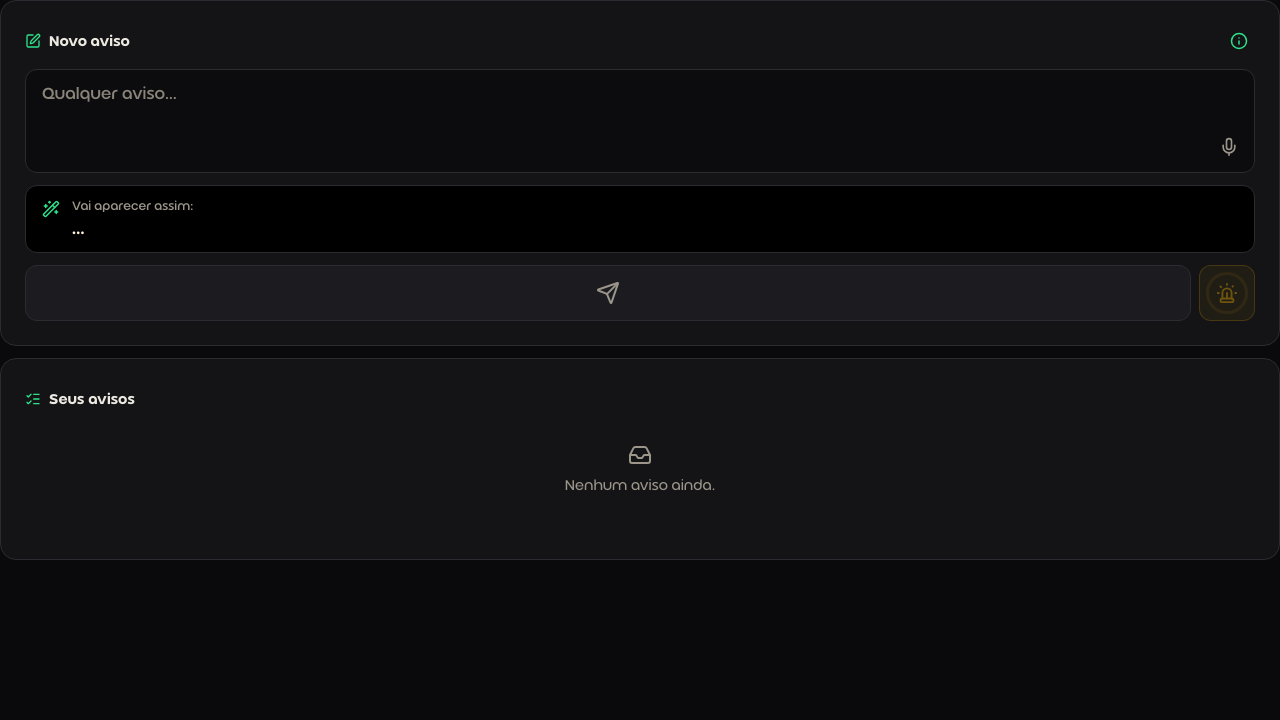
it: SendTab: campo e prévia › admin com repetido é só avisado
Click the text box labelled "Novo aviso" at (640, 121), box [25, 69, 1255, 173]
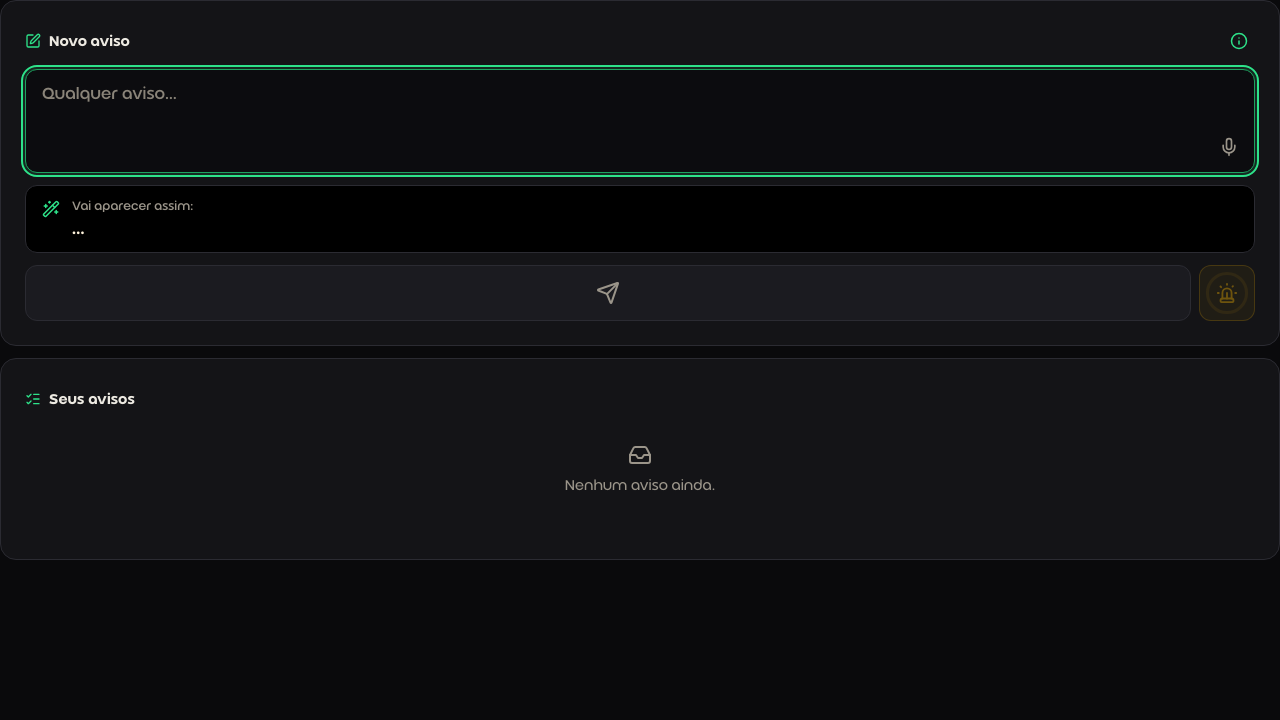
Type keys "gol branco ffo4745"
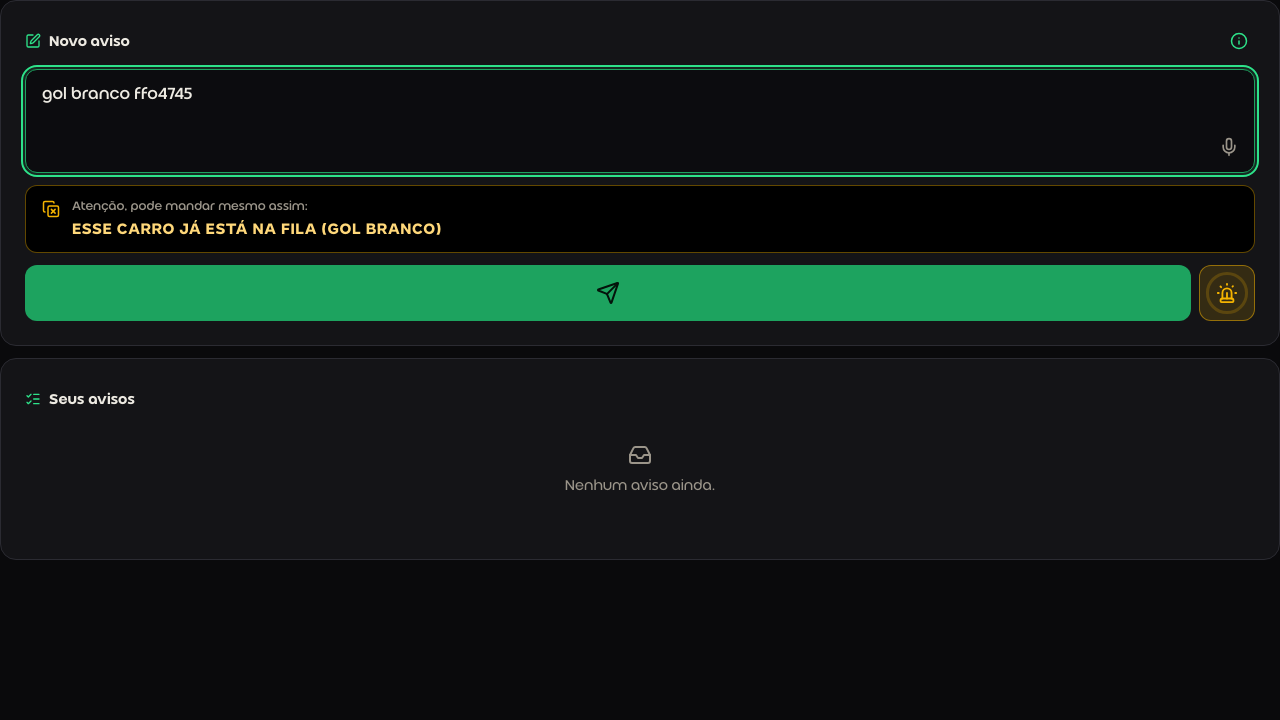
expect the text "Atenção, pode mandar mesmo assim:" is shown: met, box [72, 198, 308, 213]
expect the text "ESSE CARRO JÁ ESTÁ NA FILA (GOL BRANCO)" is shown: met, box [72, 220, 442, 238]
